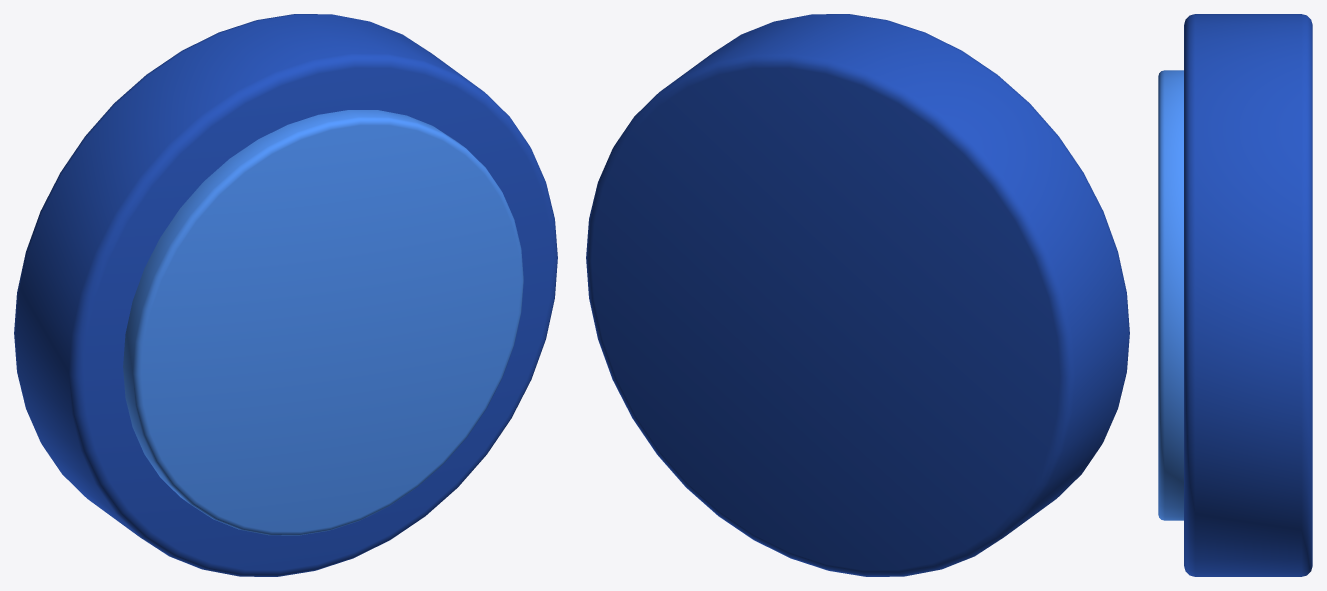
File: circulo-azul.glb
3 views of the same model, side by side, from view 1: azimuth 30°, elevation 25°; view 2: azimuth 150°, elevation 25°; view 3: azimuth 270°, elevation 25° (orthographic).
Parts seen in each view (by area): view 1: placa, borde; view 2: borde; view 3: borde, placa.
Boxes of the visible parts, <box> form: placa: <box>123,110,523,535</box>; borde: <box>14,14,557,576</box>; borde: <box>586,14,1129,576</box>; borde: <box>1184,14,1312,576</box>; placa: <box>1158,70,1183,520</box>.
Size of the model in its own units: 0.7 by 0.7 by 0.192.
